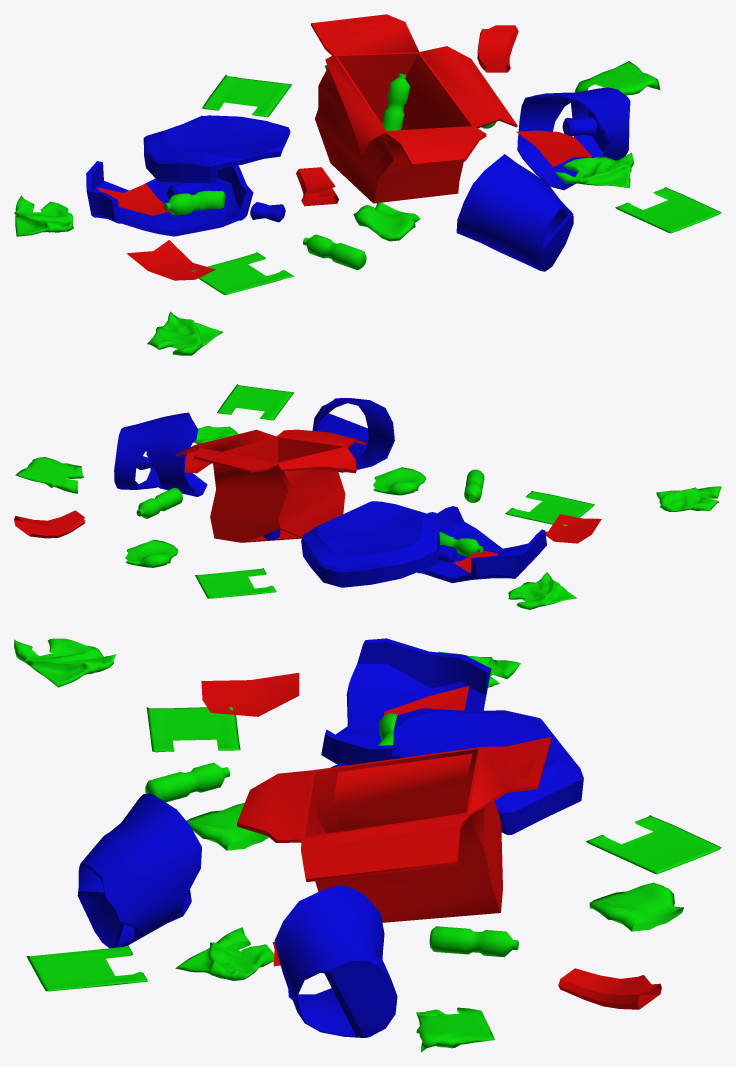
Rendered from SM_Garbage_02.FBX.
3 views of the same model, one above another, from view 1: azimuth 30°, elevation 25°; view 2: azimuth 150°, elevation 25°; view 3: azimuth 270°, elevation 25° (orthographic). The views are drawn at different scales.
Parts seen in each view (by area): view 1: Bottle_18; view 2: Bottle_18; view 3: Bottle_18.
Part boxes in pixels (x1,y1,x2,y2): Bottle_18: (14, 14, 721, 355); Bottle_18: (14, 384, 721, 609); Bottle_18: (14, 638, 721, 1052).
Size of the model in its own units: 739 by 546 by 145.
